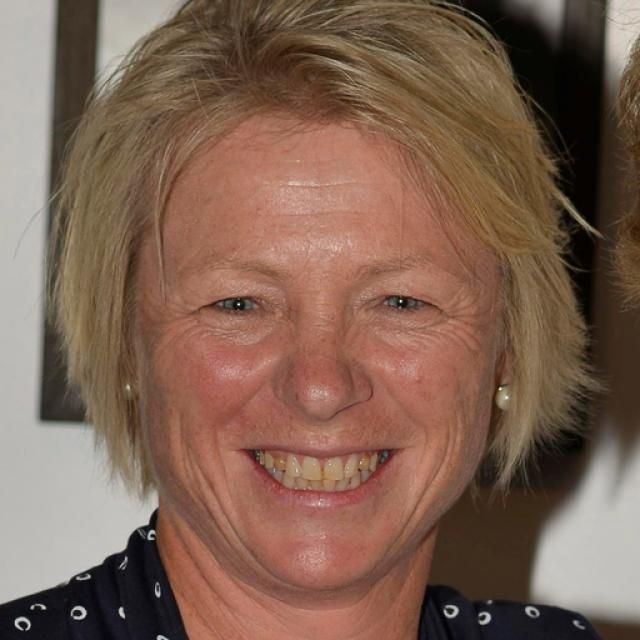Acne: (406, 371, 426, 389)
Wrinkle: (393, 426, 454, 538), (263, 205, 360, 221), (269, 177, 369, 191)
